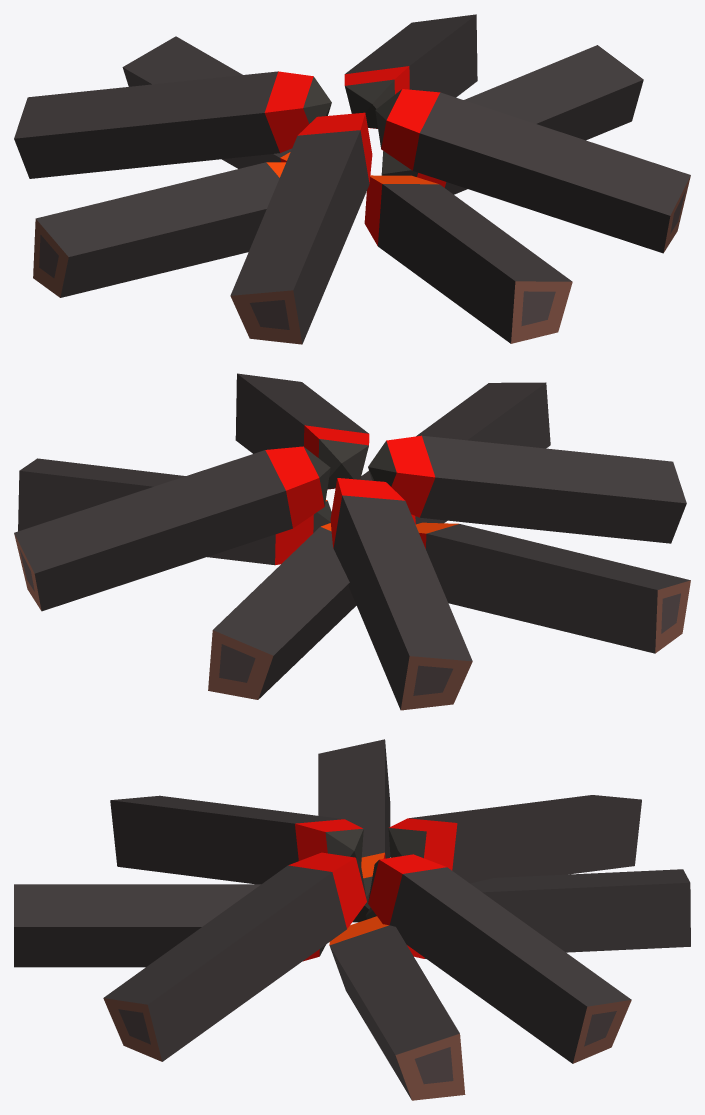
Rendered from TB_D_Prop_CampFire_B.FBX.
The picture shows the model from 3 angles, top to bottom: view 1: azimuth 30°, elevation 25°; view 2: azimuth 150°, elevation 25°; view 3: azimuth 270°, elevation 25°; orthographic projection.
Visible parts, largest first — view 1: TB_D_Prop_CampFire_B; view 2: TB_D_Prop_CampFire_B; view 3: TB_D_Prop_CampFire_B.
Part boxes in pixels (x1,y1,x2,y2): TB_D_Prop_CampFire_B: (14, 14, 690, 344); TB_D_Prop_CampFire_B: (14, 373, 690, 710); TB_D_Prop_CampFire_B: (14, 739, 690, 1100).
Bounding box in the file's own units: 1.31 × 0.2363 × 1.24.
